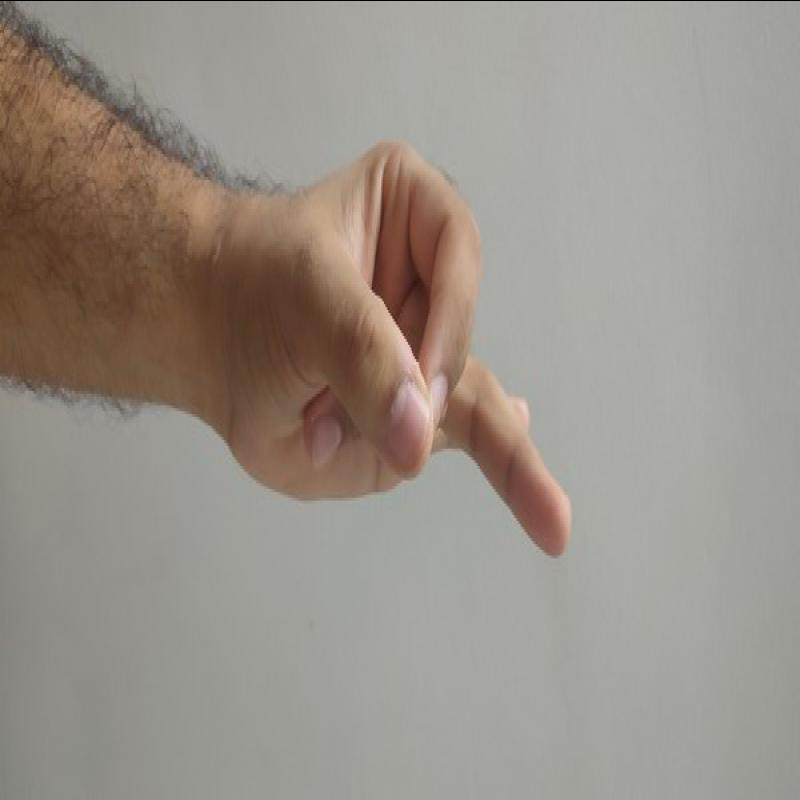Katakam: (218, 133, 582, 581)
